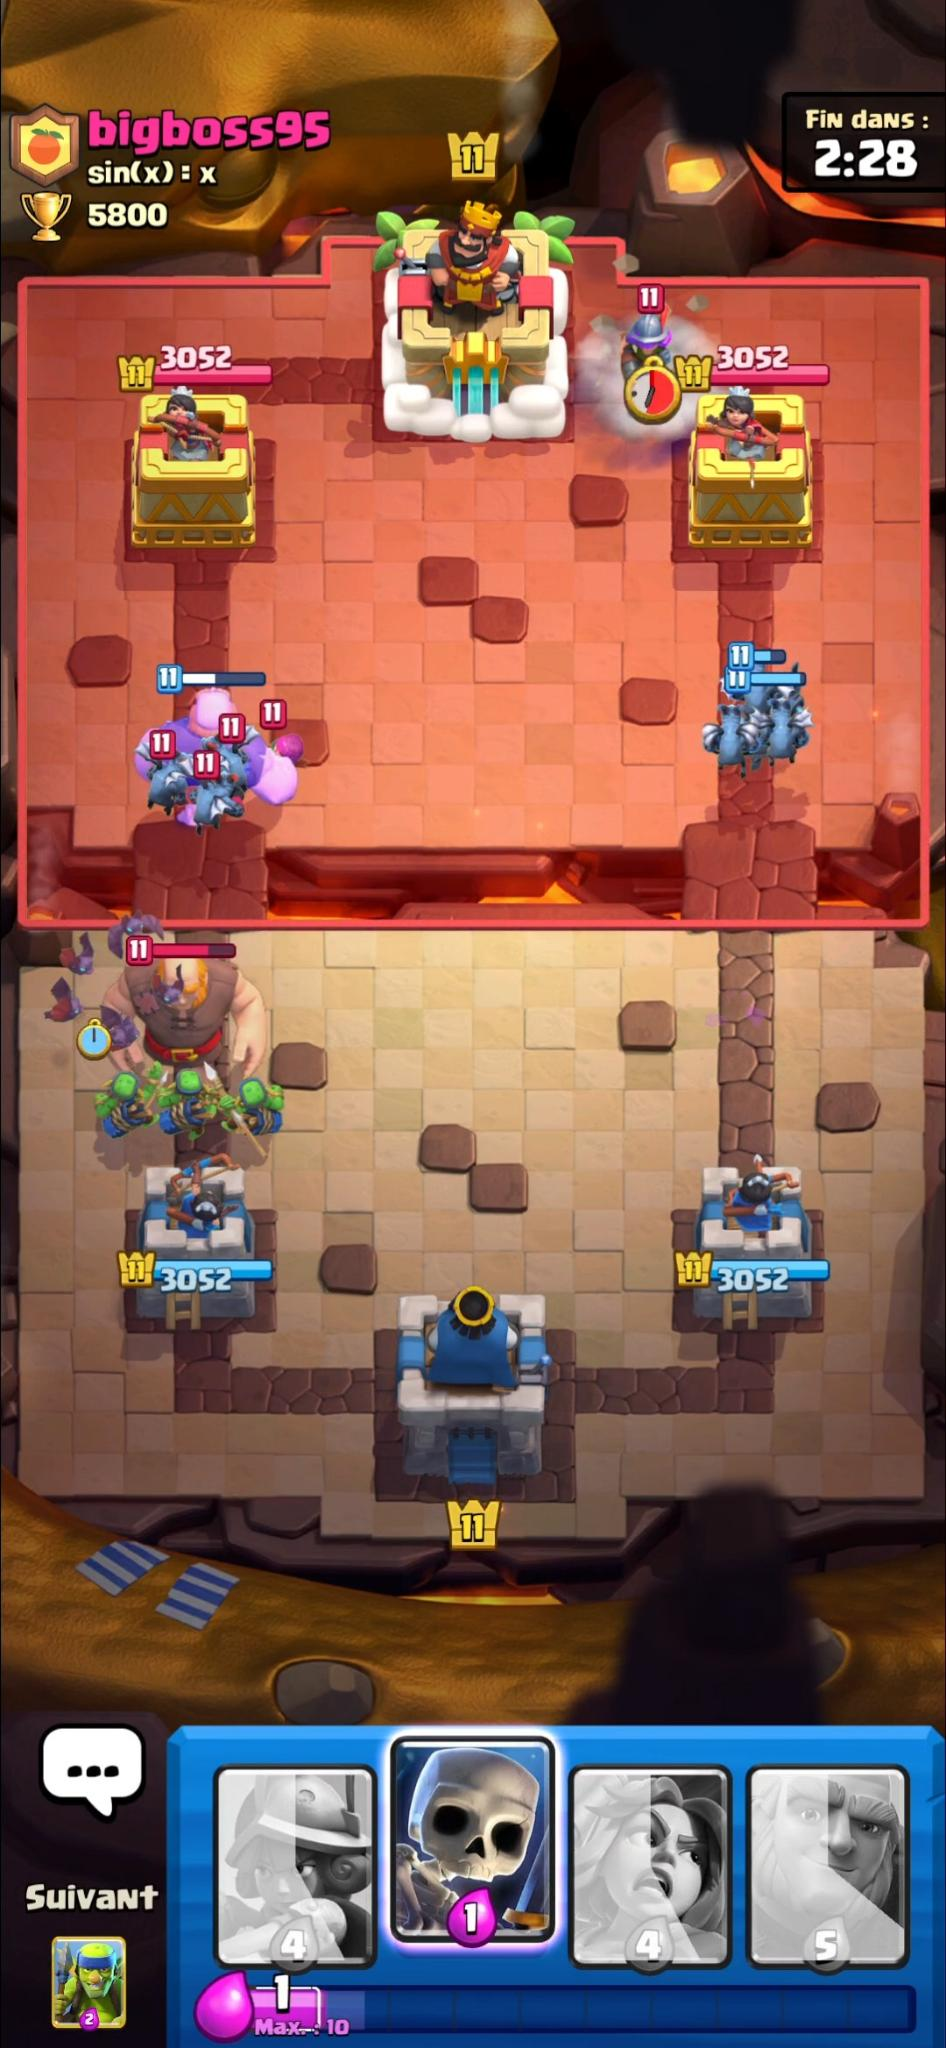bat: (94, 997, 148, 1062), (112, 903, 165, 957), (46, 980, 93, 1031), (61, 925, 99, 981)
gargouille: (703, 701, 768, 773), (754, 701, 818, 767), (142, 746, 204, 812), (186, 768, 248, 831)
geant: (114, 948, 277, 1075)
gobelin_lances: (223, 1076, 299, 1160), (162, 1068, 227, 1145), (95, 1066, 165, 1138)
mousquetaire: (619, 311, 678, 391)
